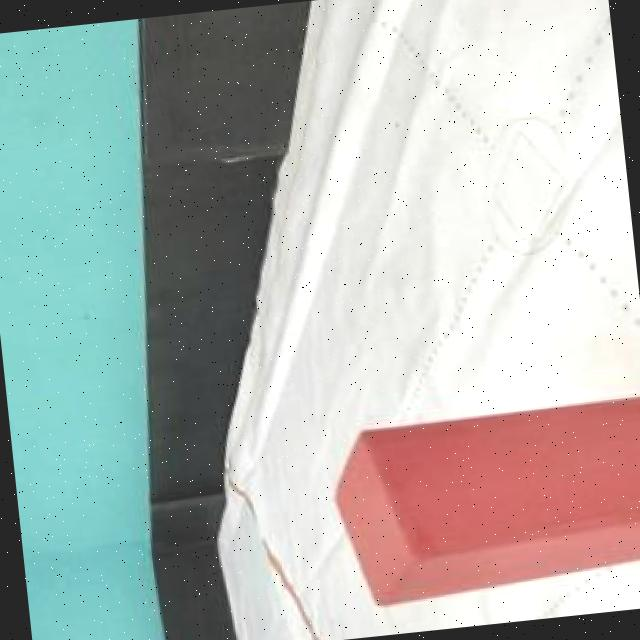redbox: (318, 394, 640, 609)
